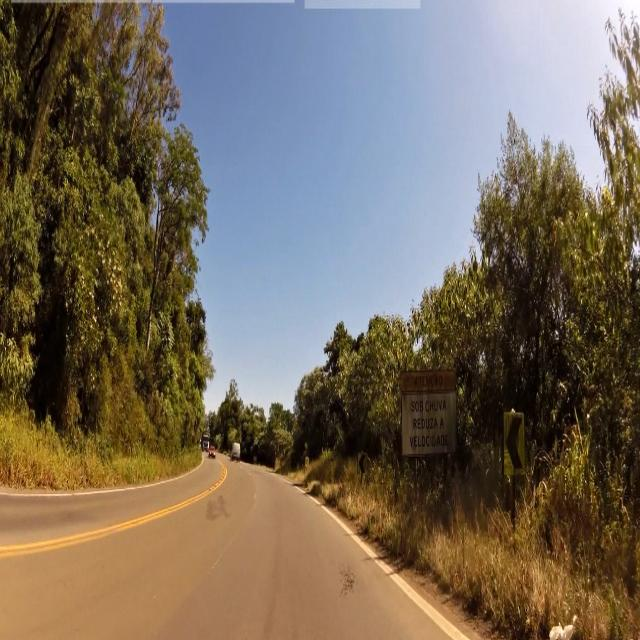Del: (502, 408, 525, 478)
E-5: (402, 398, 456, 451)
